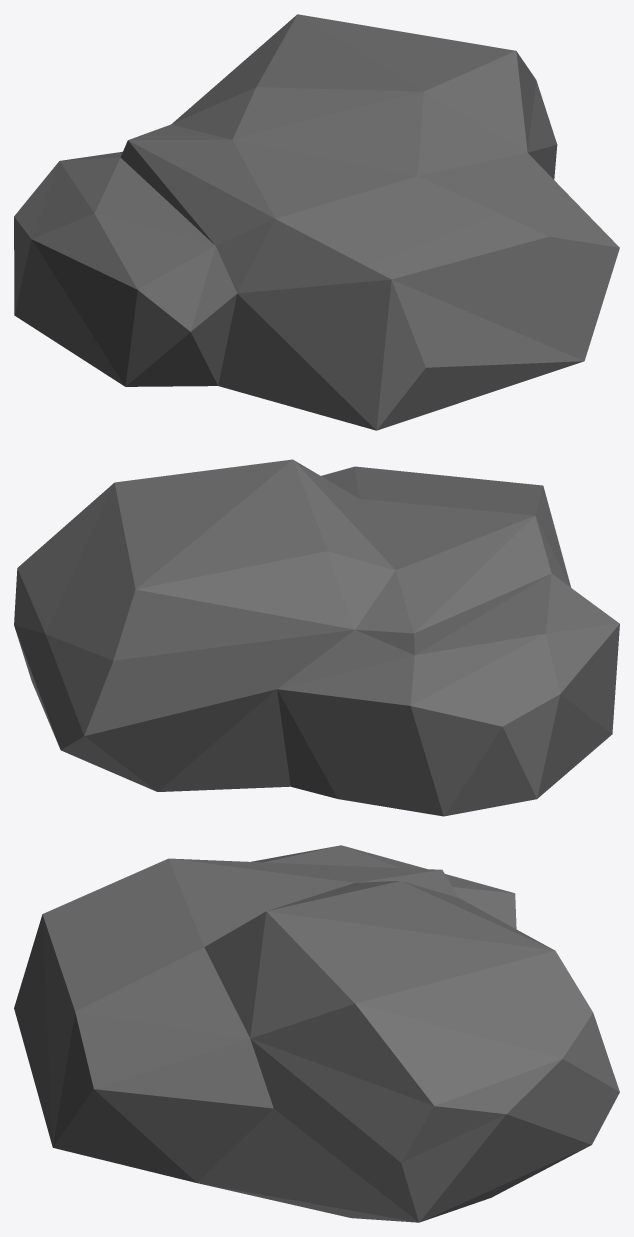
File: rock__rock1_natural_medium.glb
3 views of the same model, one above another, from view 1: azimuth 30°, elevation 25°; view 2: azimuth 150°, elevation 25°; view 3: azimuth 270°, elevation 25° (orthographic). The views are drawn at different scales.
Visible parts, largest first — view 1: rock1.natural.medium; view 2: rock1.natural.medium; view 3: rock1.natural.medium.
Boxes of the visible parts, left/top/right/bottom form: rock1.natural.medium: left=14, top=14, right=619, bottom=430; rock1.natural.medium: left=14, top=459, right=619, bottom=816; rock1.natural.medium: left=14, top=845, right=619, bottom=1222.
Bounding box in the file's own units: 3.01 × 1.28 × 2.94.
Materials: 1 (1 with a texture image).
